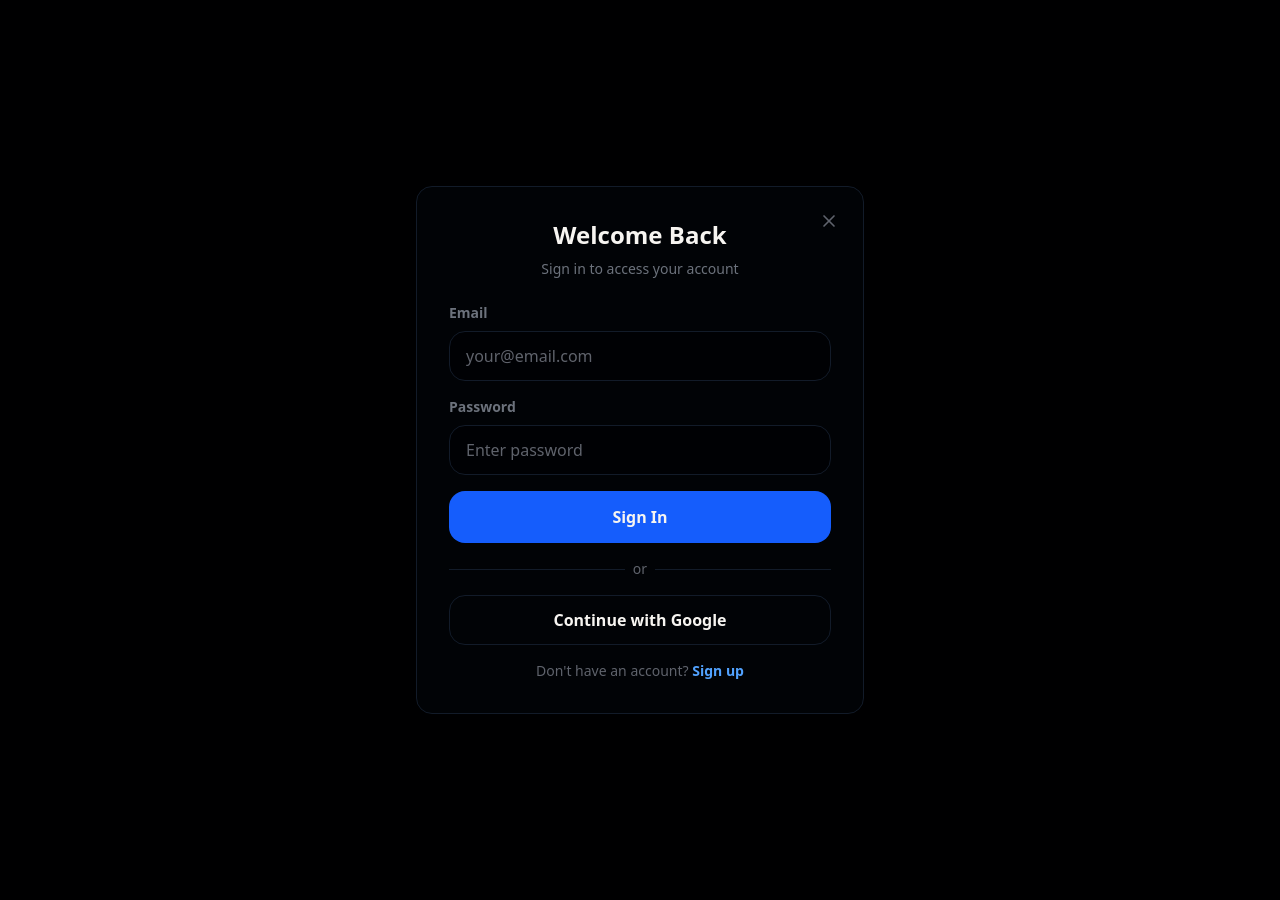
Test: AuthModals › login form validation › shows inline error when email is empty
Click the button "Sign In" at (640,517), box [449,491,831,543]
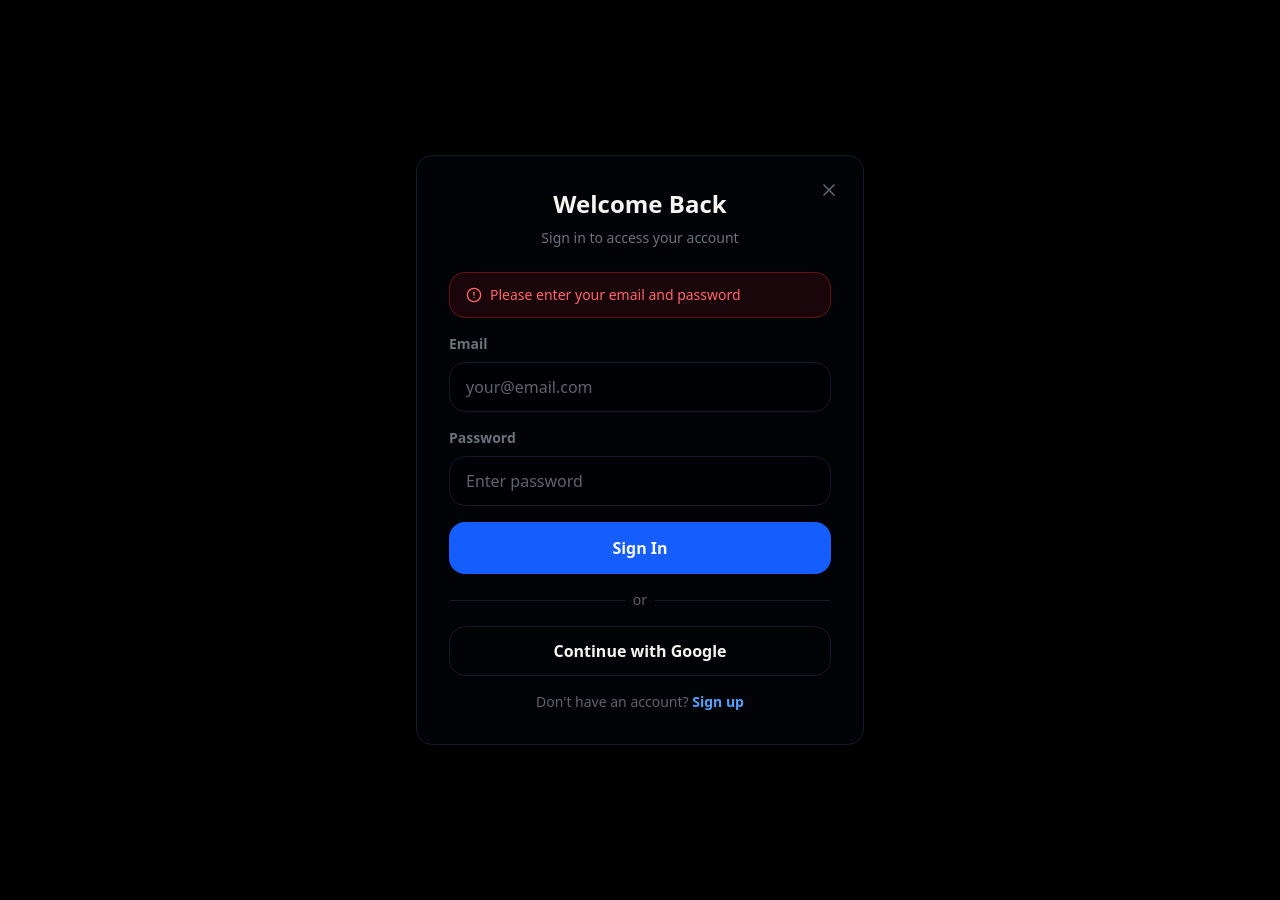
Expected: the text "Please enter your email and password" is shown, [490,285,741,305]
